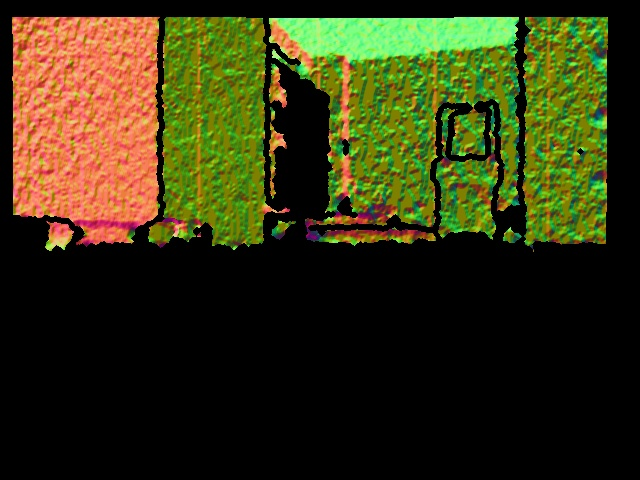station: (432, 102, 499, 183)
